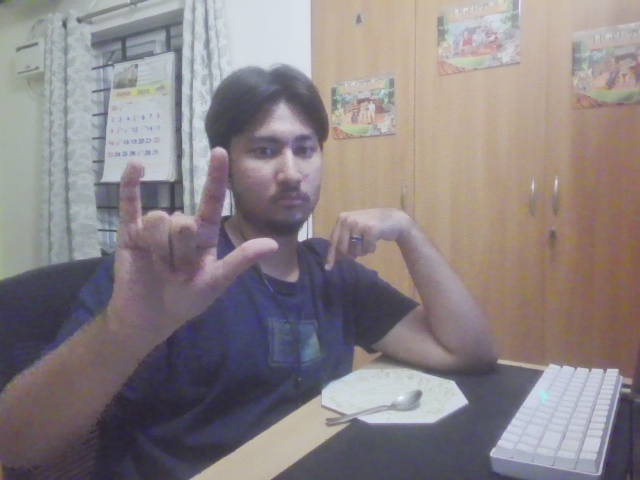iloveyou: (84, 140, 282, 336)
